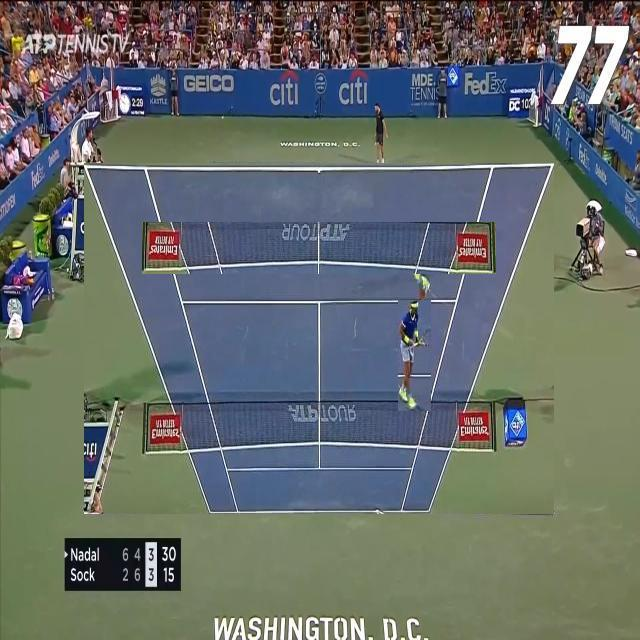court: (84, 163, 554, 514)
net: (142, 222, 496, 274)
player: (398, 300, 431, 411)
